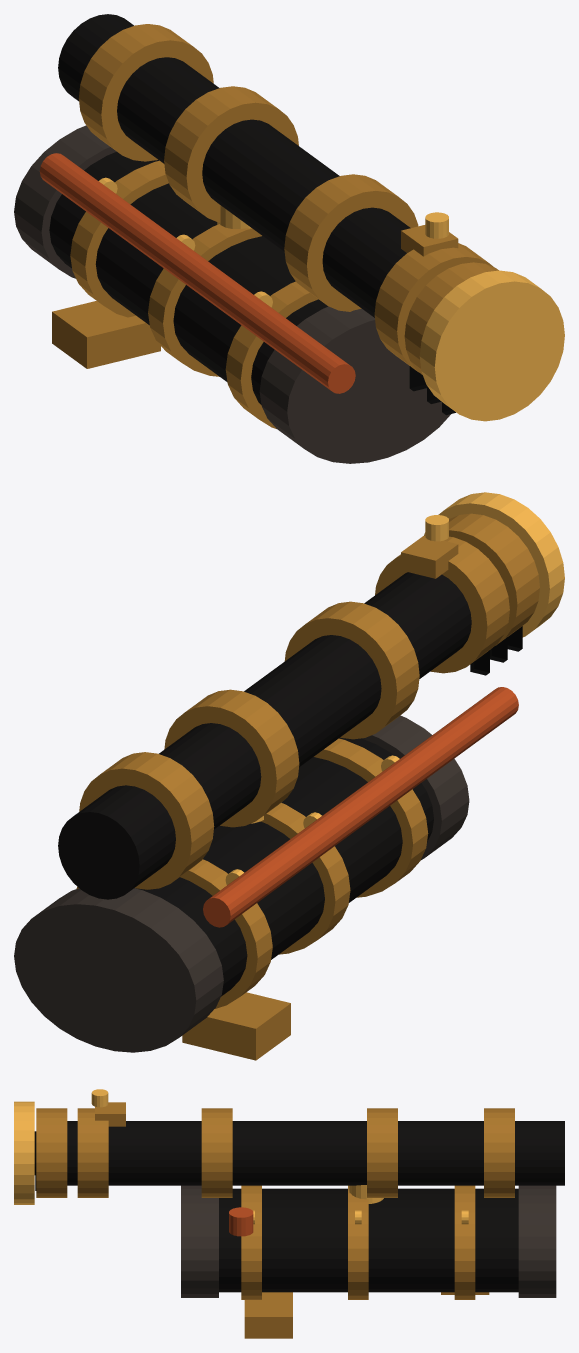
File: WPB_002_PressureChamberBarrel_Staged.obj
The picture shows the model from 3 angles, top to bottom: view 1: azimuth 30°, elevation 25°; view 2: azimuth 150°, elevation 25°; view 3: azimuth 270°, elevation 25°; orthographic projection. The views are drawn at different scales.
Parts seen in each view (by area): view 1: barrel_blackened_main_tube, chamber_front_domed_cap, barrel_muzzle_polished_crown, chamber_blackened_pressure_tank, lower_copper_pressure_line, barrel_brass_collar_0p095, barrel_brass_collar_0p505, barrel_brass_collar_0p265, chamber_rear_mount_foot, chamber_rear_domed_cap, barrel_brass_collar_0p685, chamber_brass_band_0p145 (+5 smaller); view 2: barrel_blackened_main_tube, chamber_rear_domed_cap, chamber_blackened_pressure_tank, lower_copper_pressure_line, barrel_brass_collar_0p505, barrel_brass_collar_0p095, barrel_brass_collar_0p265, barrel_brass_collar_0p685, barrel_muzzle_polished_crown, chamber_rear_mount_foot, barrel_brass_collar_0p745, chamber_front_domed_cap (+4 smaller); view 3: barrel_blackened_main_tube, chamber_blackened_pressure_tank, chamber_rear_domed_cap, chamber_front_domed_cap, barrel_brass_collar_0p505, barrel_brass_collar_0p745, barrel_brass_collar_0p095, barrel_brass_collar_0p265, barrel_brass_collar_0p685, chamber_brass_band_0p145, barrel_muzzle_polished_crown, chamber_front_mount_foot (+4 smaller).
Boxes of the visible parts, x1=… form: barrel_blackened_main_tube: x1=58, y1=14, x2=410, y2=317; chamber_front_domed_cap: x1=259, y1=306, x2=450, y2=463; barrel_muzzle_polished_crown: x1=419, y1=270, x2=564, y2=421; chamber_blackened_pressure_tank: x1=49, y1=151, x2=328, y2=404; lower_copper_pressure_line: x1=39, y1=153, x2=355, y2=393; barrel_brass_collar_0p095: x1=78, y1=24, x2=213, y2=161; barrel_brass_collar_0p505: x1=284, y1=174, x2=418, y2=311; barrel_brass_collar_0p265: x1=164, y1=86, x2=298, y2=222; chamber_rear_mount_foot: x1=52, y1=301, x2=160, y2=368; chamber_rear_domed_cap: x1=14, y1=125, x2=116, y2=278; barrel_brass_collar_0p685: x1=374, y1=243, x2=494, y2=372; chamber_brass_band_0p145: x1=70, y1=160, x2=168, y2=317; barrel_blackened_main_tube: x1=58, y1=572, x2=471, y2=899; chamber_rear_domed_cap: x1=14, y1=888, x2=223, y2=1052; chamber_blackened_pressure_tank: x1=134, y1=737, x2=433, y2=996; lower_copper_pressure_line: x1=203, y1=687, x2=518, y2=927; barrel_brass_collar_0p505: x1=284, y1=601, x2=419, y2=739; barrel_brass_collar_0p095: x1=79, y1=752, x2=214, y2=889; barrel_brass_collar_0p265: x1=164, y1=689, x2=299, y2=827; barrel_brass_collar_0p685: x1=375, y1=536, x2=509, y2=673; barrel_muzzle_polished_crown: x1=424, y1=492, x2=564, y2=637; chamber_rear_mount_foot: x1=182, y1=992, x2=290, y2=1060; barrel_brass_collar_0p745: x1=449, y1=513, x2=539, y2=645; chamber_front_domed_cap: x1=362, y1=715, x2=469, y2=860; barrel_blackened_main_tube: x1=67, y1=1121, x2=564, y2=1185; chamber_blackened_pressure_tank: x1=219, y1=1188, x2=518, y2=1292; chamber_rear_domed_cap: x1=518, y1=1185, x2=556, y2=1297; chamber_front_domed_cap: x1=181, y1=1185, x2=218, y2=1297; barrel_brass_collar_0p505: x1=201, y1=1108, x2=232, y2=1197; barrel_brass_collar_0p745: x1=36, y1=1108, x2=67, y2=1197; barrel_brass_collar_0p095: x1=484, y1=1108, x2=514, y2=1197; barrel_brass_collar_0p265: x1=367, y1=1108, x2=397, y2=1197; barrel_brass_collar_0p685: x1=77, y1=1108, x2=108, y2=1197; chamber_brass_band_0p145: x1=454, y1=1185, x2=475, y2=1299; barrel_muzzle_polished_crown: x1=14, y1=1101, x2=34, y2=1204; chamber_front_mount_foot: x1=244, y1=1292, x2=292, y2=1338.
Bounding box in the file's own units: 0.235 × 0.3395 × 0.8.
